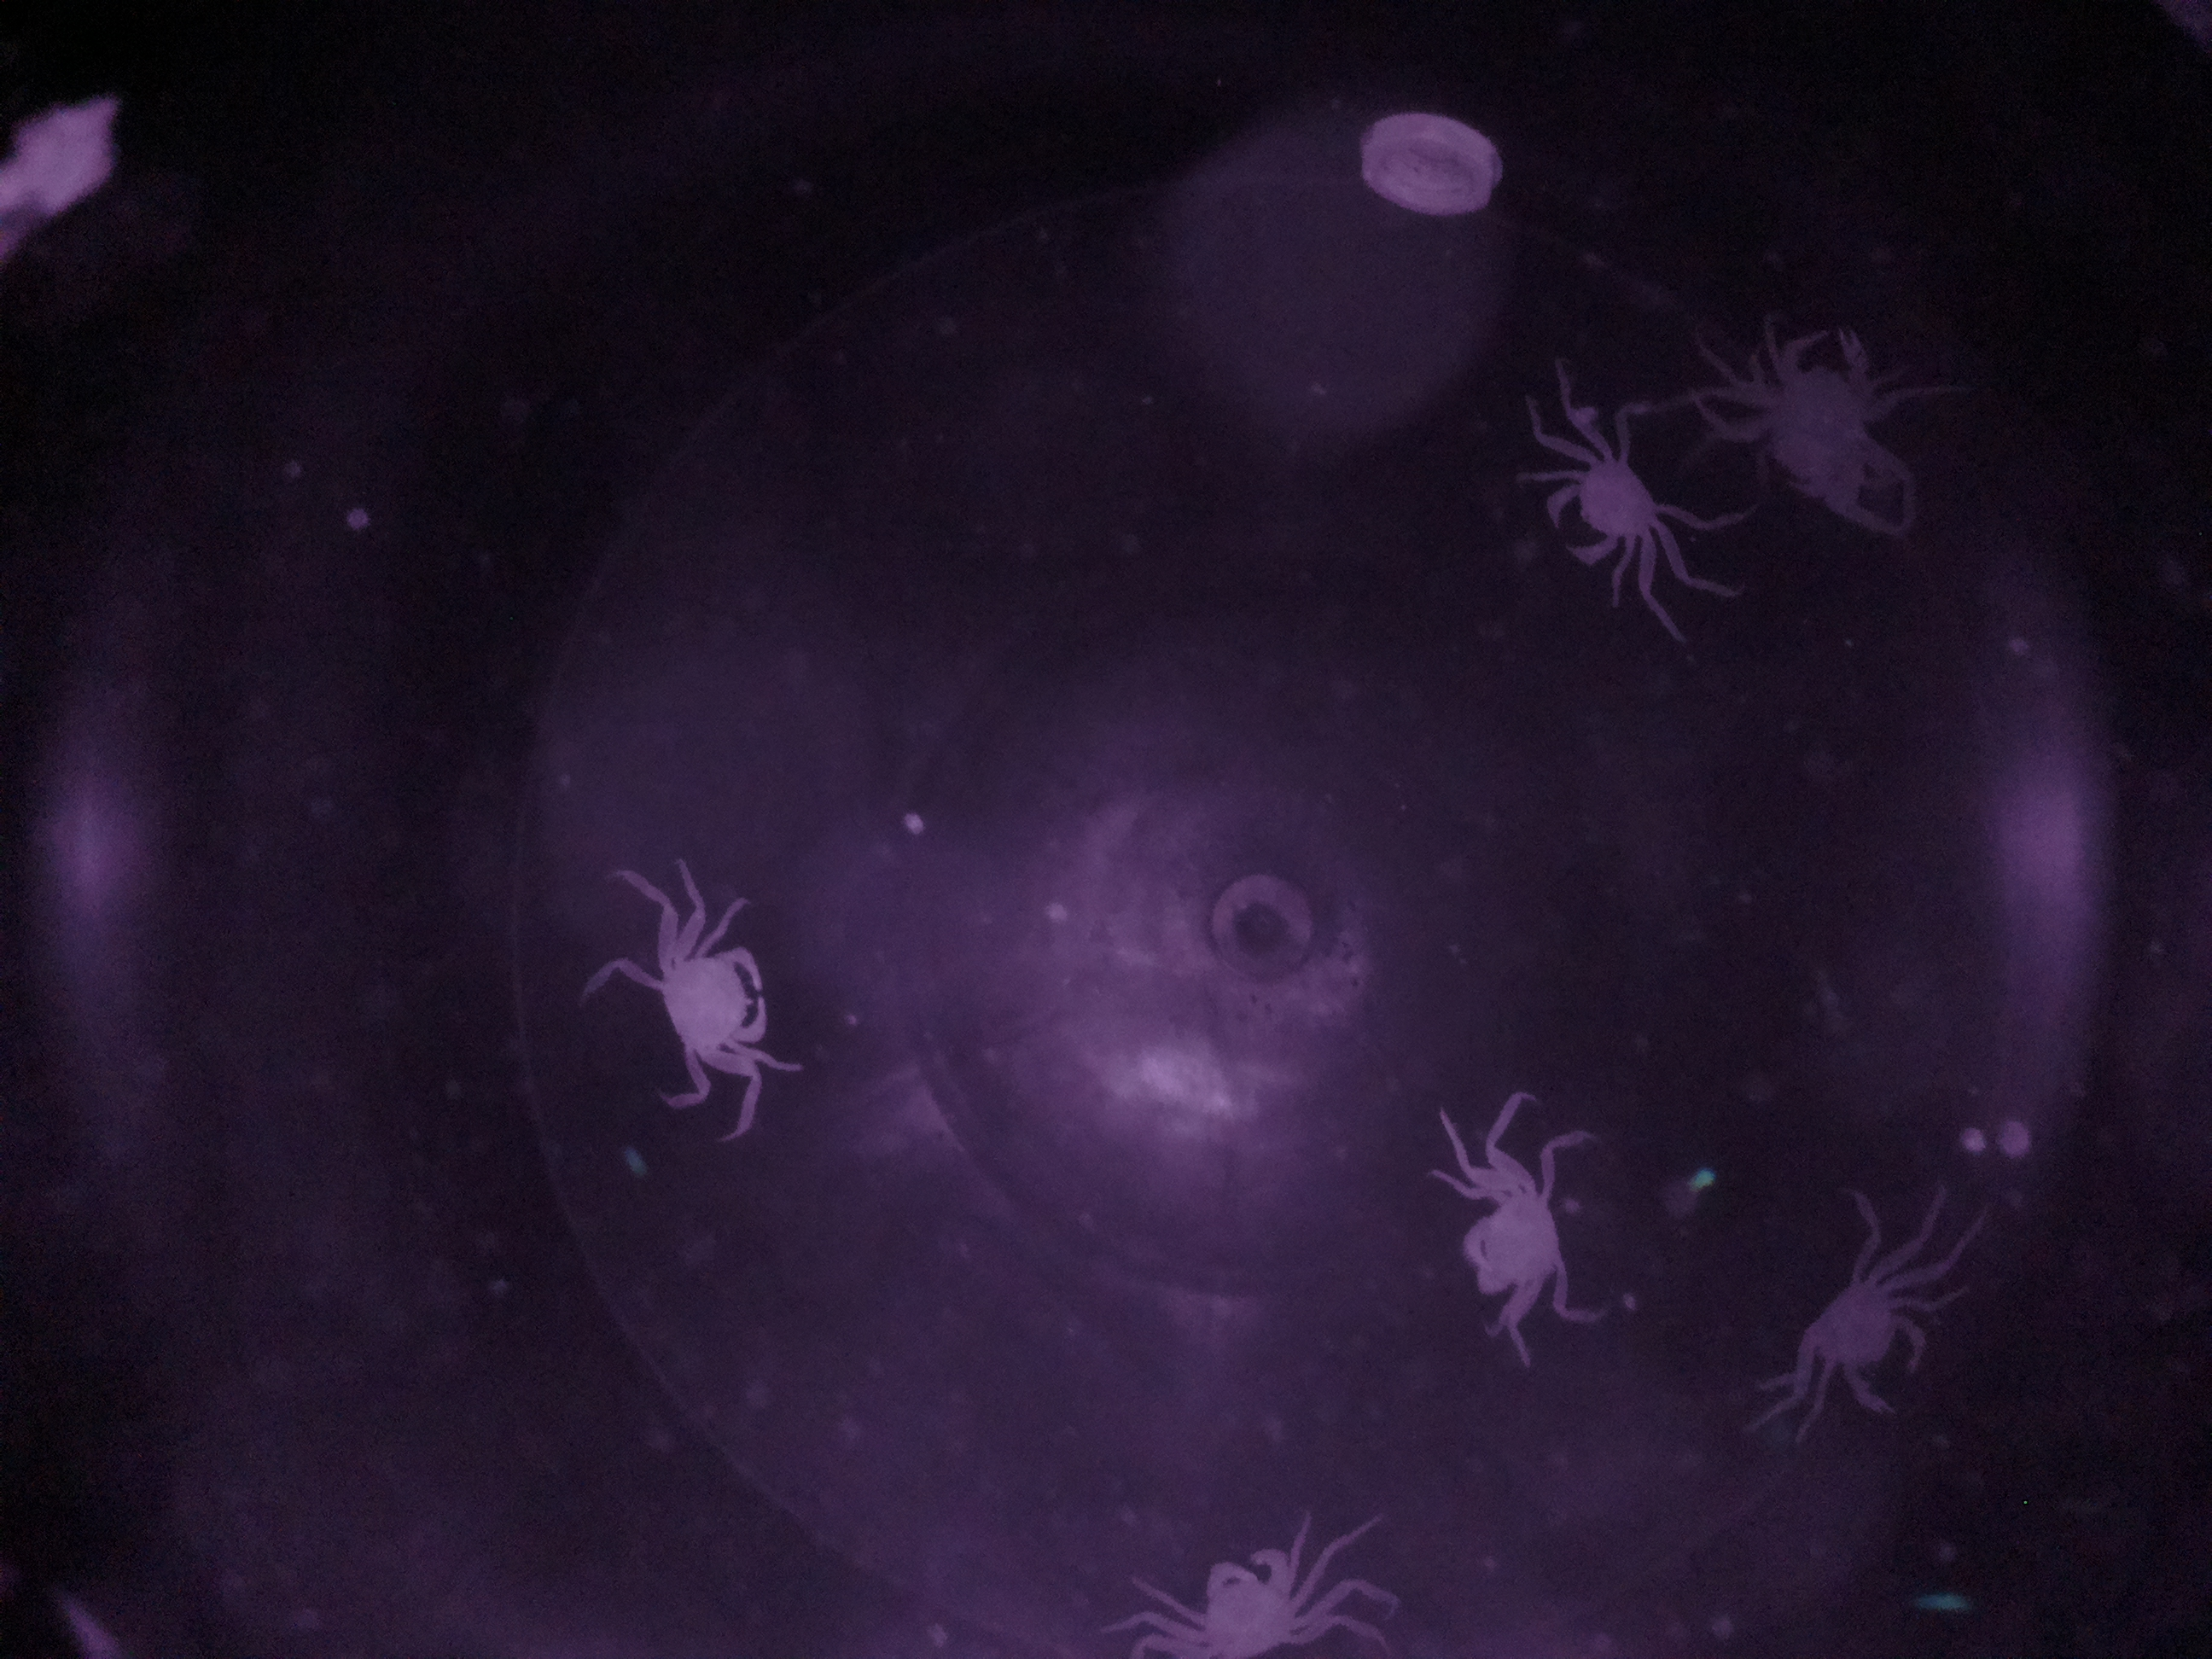Crab: (606, 913, 808, 1103), (1770, 1239, 1954, 1445), (1531, 404, 1677, 629), (1435, 1143, 1599, 1340), (1158, 1516, 1334, 1659)
